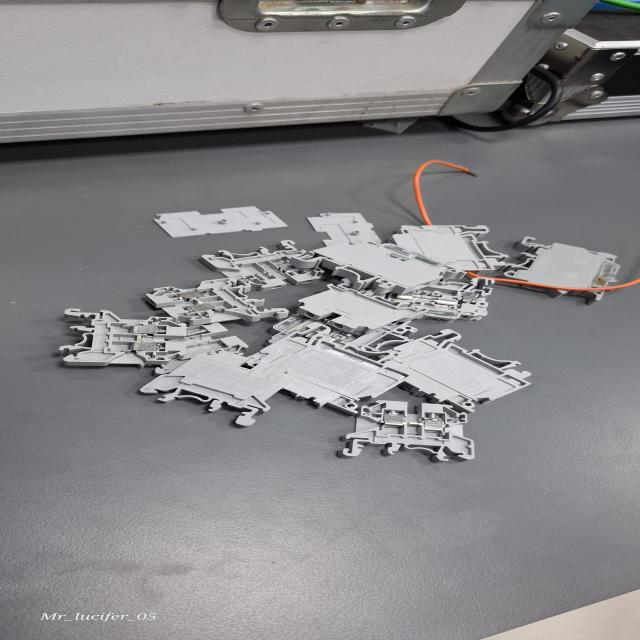Inverted: (160, 346, 296, 418), (286, 282, 426, 336)
Pass: (36, 300, 197, 376), (342, 392, 497, 469), (109, 274, 292, 328)
Reject: (188, 239, 334, 288)
